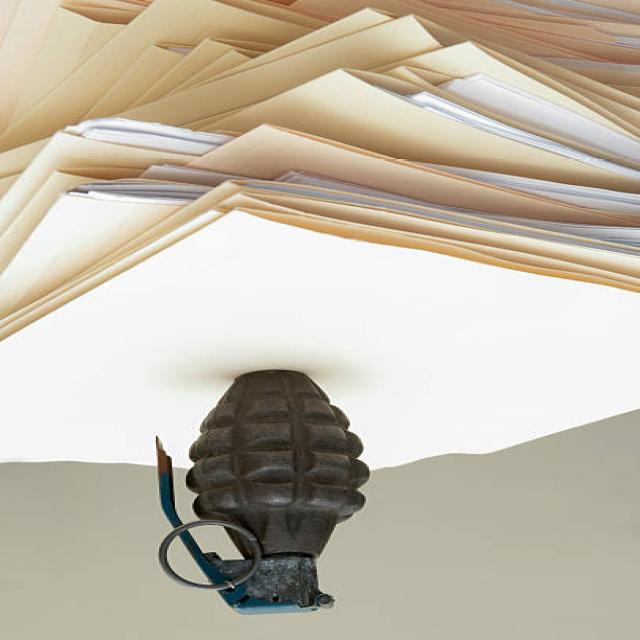grenade: (141, 358, 378, 621)
